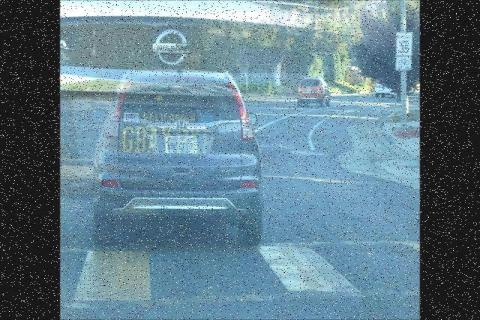LicensePlate: (166, 136, 198, 154), (307, 89, 312, 91)
